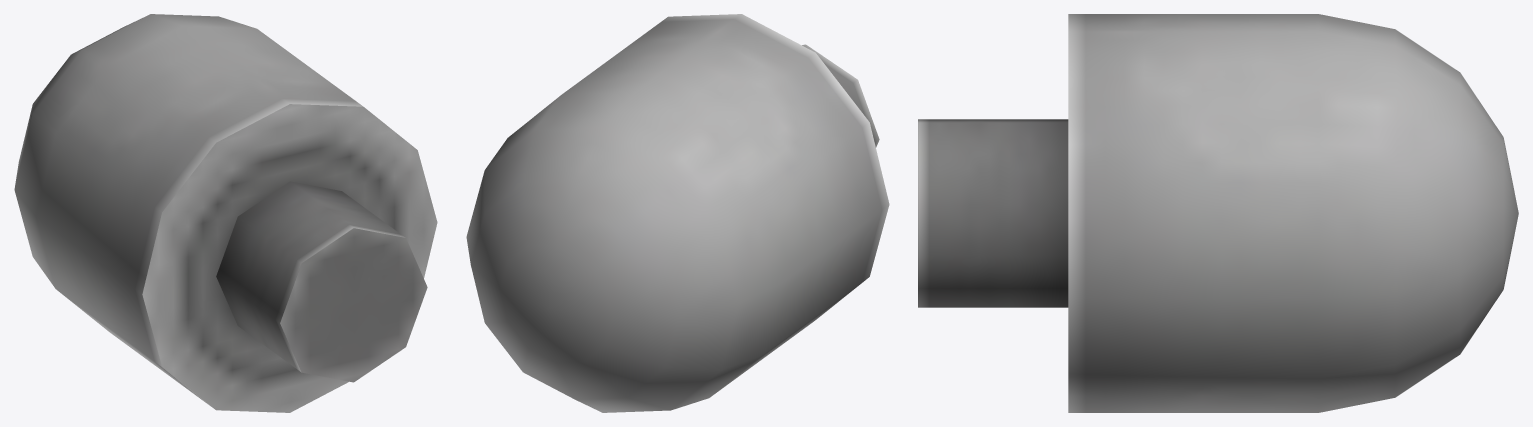
File: 4mv_vl_sensor_thermometer_srf_1_compact.obj
3 renders of one model, left to right at view 1: azimuth 30°, elevation 25°; view 2: azimuth 150°, elevation 25°; view 3: azimuth 270°, elevation 25°, orthographic. The views are drawn at different scales.
Parts seen in each view (by area): view 1: mesh1; view 2: mesh1; view 3: mesh1.
Part boxes in pixels (x1,y1,x2,y2): mesh1: (14,14,437,412); mesh1: (466,14,889,412); mesh1: (918,14,1518,412).
Bounding box in the file's own units: 0.1 × 0.1 × 0.15.
1 material, 1 textured.
